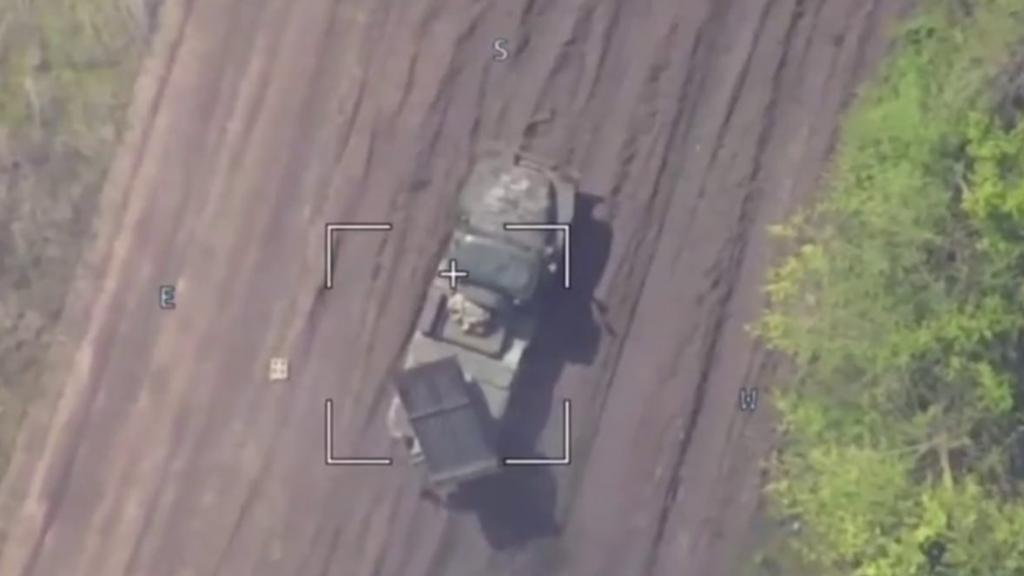MLRS: (380, 143, 580, 493)
